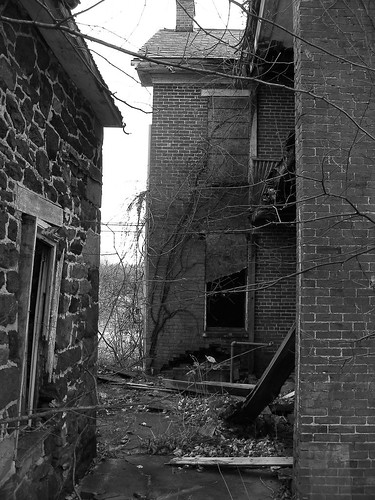building: (157, 1, 375, 500), (1, 1, 104, 475)
